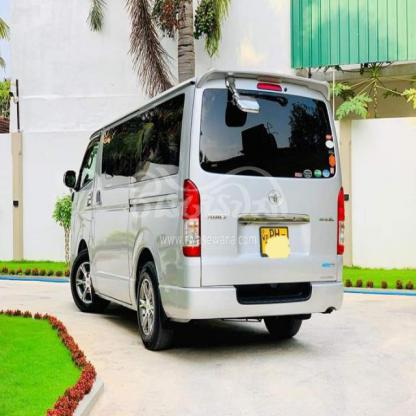van: (63, 65, 355, 348)
